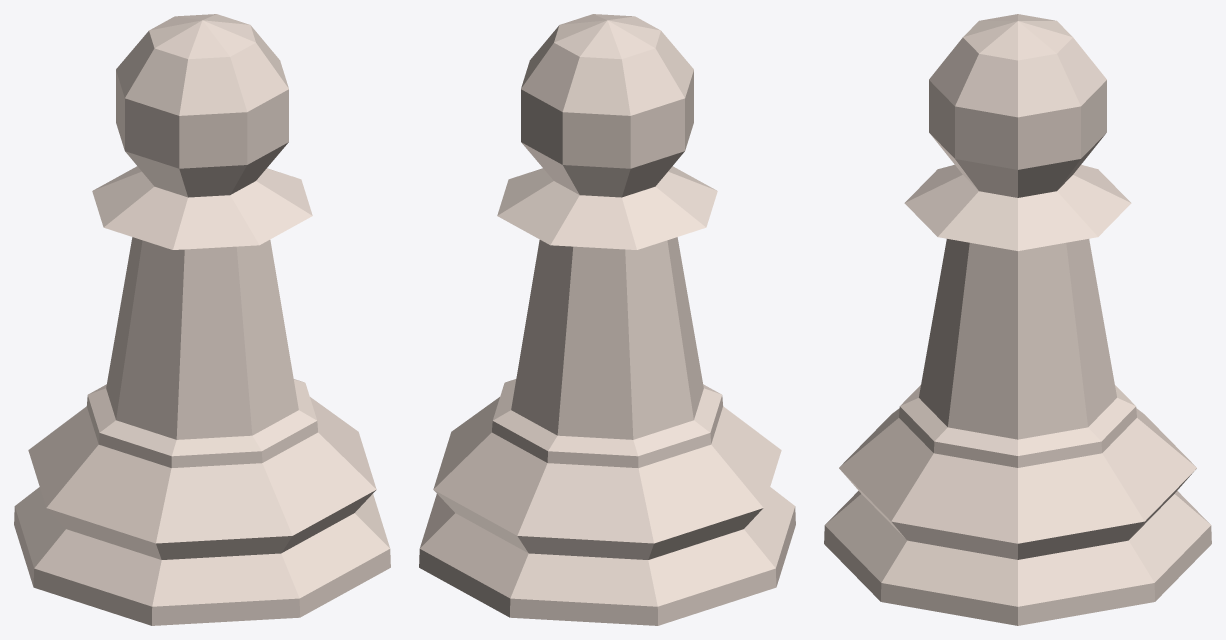
The model's file is Chess_White_Pawn_1.fbx.
3 views of the same model, side by side, from view 1: azimuth 30°, elevation 25°; view 2: azimuth 150°, elevation 25°; view 3: azimuth 270°, elevation 25° (orthographic).
Parts seen in each view (by area): view 1: Chess_White_Pawn_1; view 2: Chess_White_Pawn_1; view 3: Chess_White_Pawn_1.
Boxes of the visible parts, left/top/right/bottom form: Chess_White_Pawn_1: left=14, top=14, right=390, bottom=625; Chess_White_Pawn_1: left=419, top=14, right=795, bottom=625; Chess_White_Pawn_1: left=824, top=14, right=1211, bottom=625.
Bounding box in the file's own units: 2.82 × 2.82 × 4.19.
